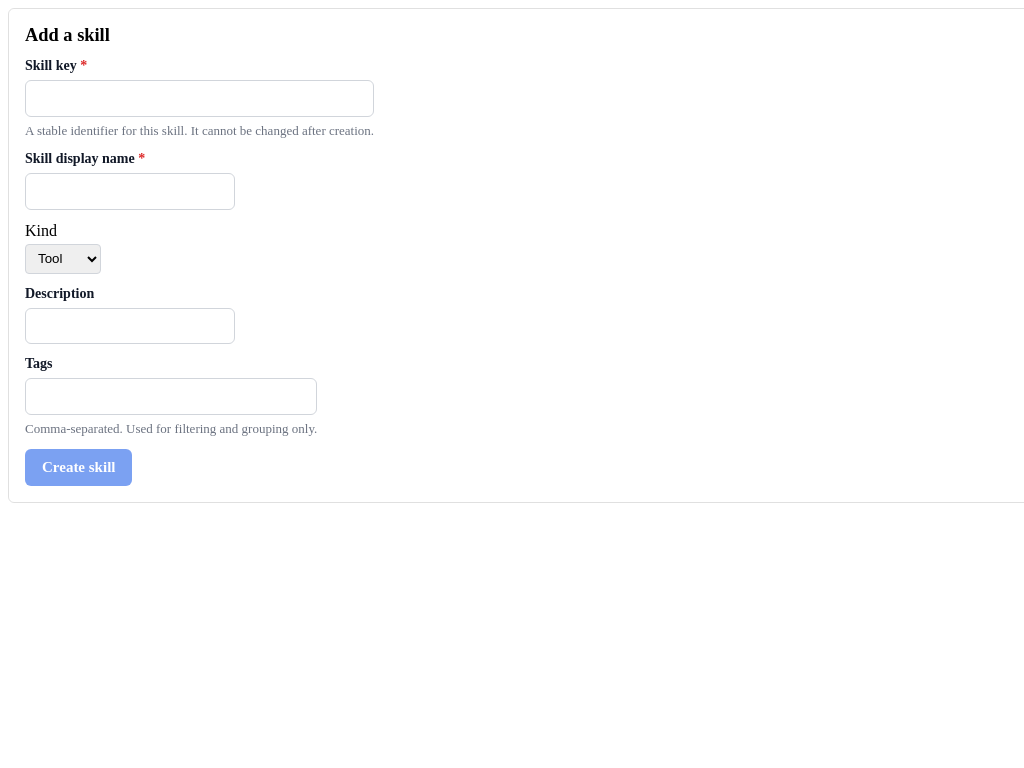
Scenario: SkillCreateForm › it posts to the console's own endpoint with the tag list split on commas
The width and height of the screenshot is (1024, 768).
Type "lookup_order" into the field labelled "Skill key *". click: (200, 98)
box: [25,80,374,117]
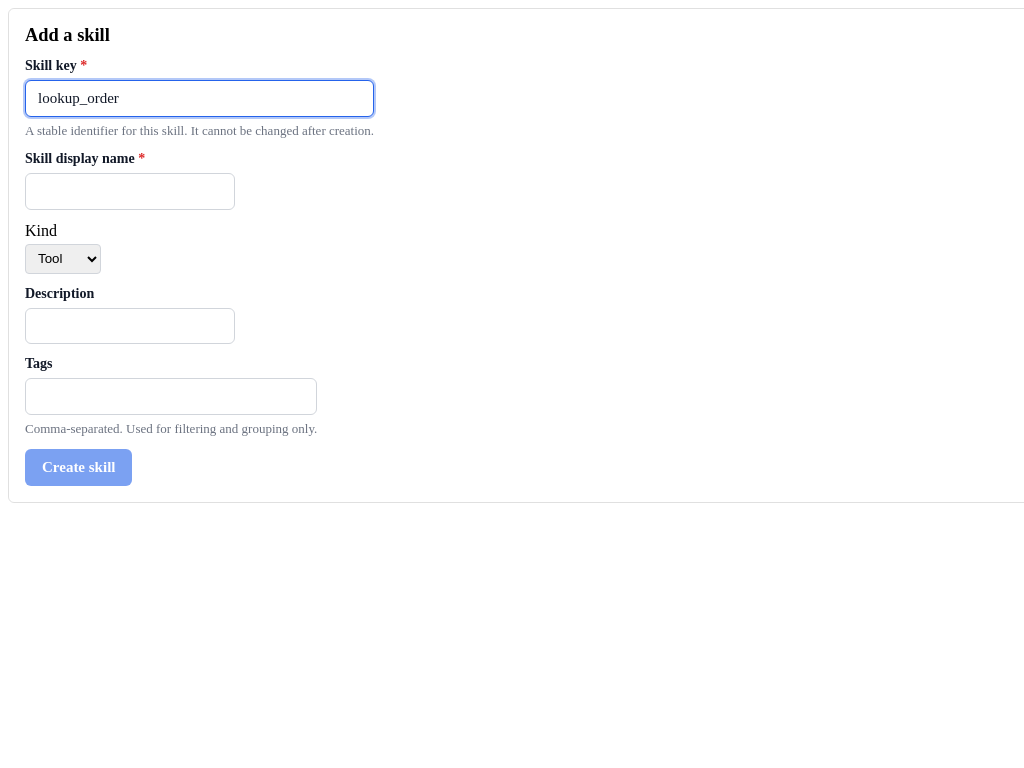
Type "Look up order" into the field labelled "Skill display name *". click: (130, 191)
box: [25,173,235,210]
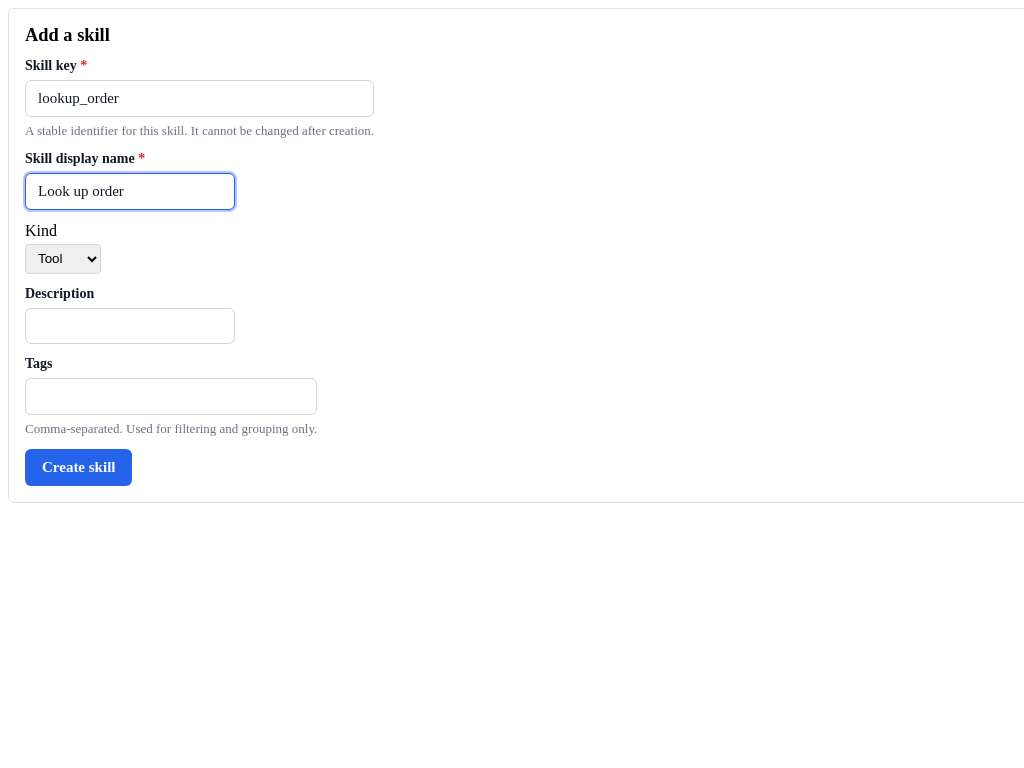
Type "orders, support" into the field labelled "Tags". click: (171, 397)
box: [25,378,317,415]
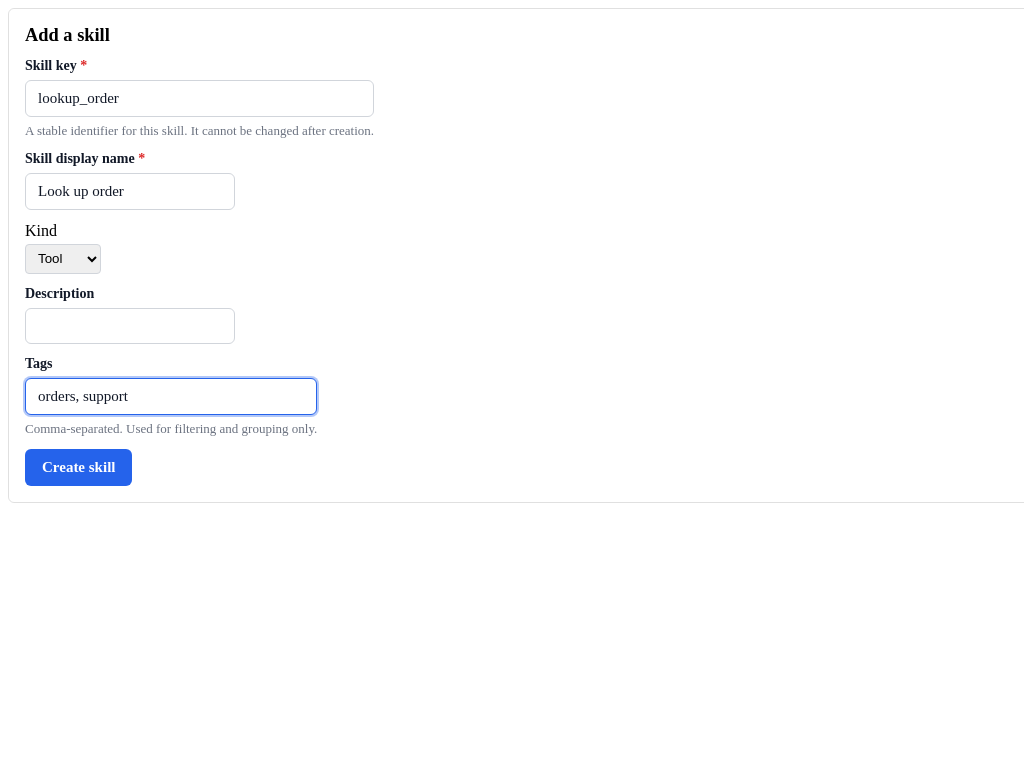
Click the button "Create skill". click: (79, 468)
box: [25,449,132,486]
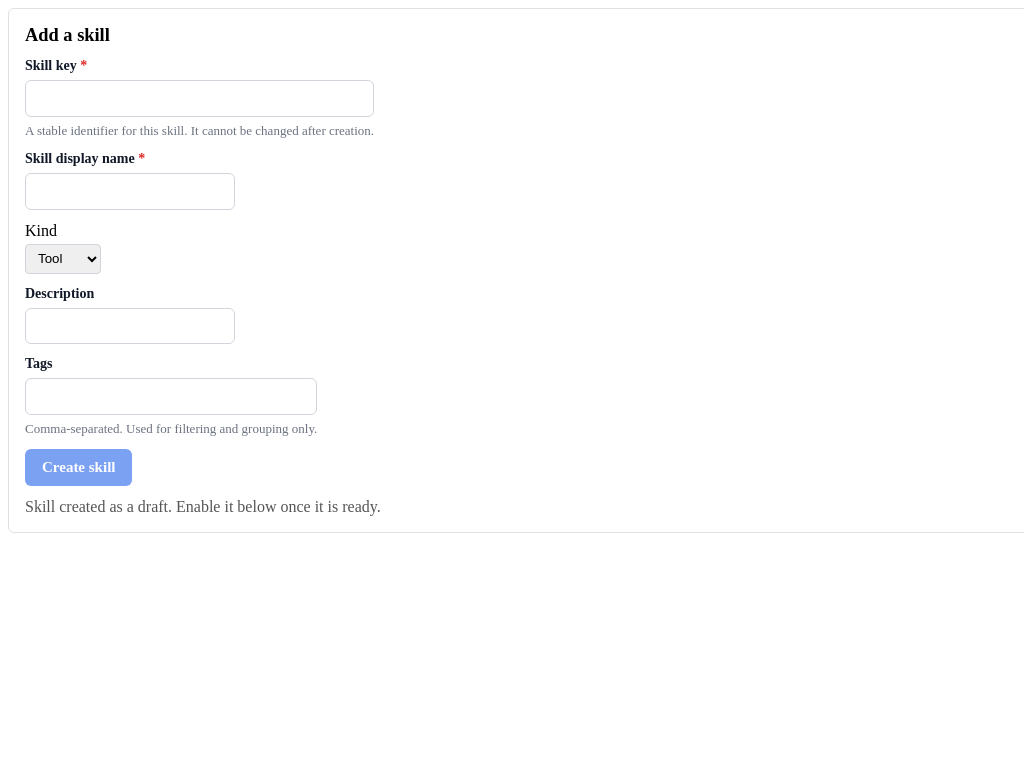
Check: the text "Skill created as a draft. Enable it below once it is ready." is shown, box [25,498,381,516]
